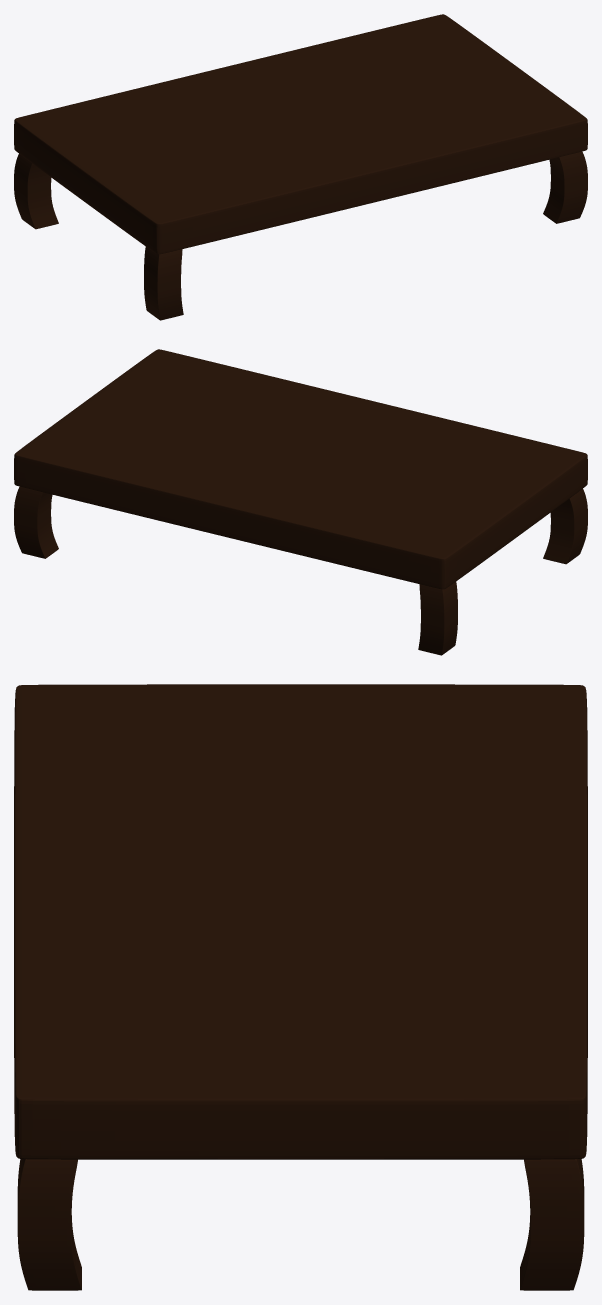
The model's file is rustic_coffee_table.glb.
The picture shows the model from 3 angles, top to bottom: view 1: azimuth 30°, elevation 25°; view 2: azimuth 150°, elevation 25°; view 3: azimuth 270°, elevation 25°; orthographic projection. The views are drawn at different scales.
Visible parts, largest first — view 1: Table, Pieds; view 2: Table, Pieds; view 3: Table, Pieds.
Boxes of the visible parts, box(x1,y1,x2,y2) form: Table: box(14, 14, 587, 254); Pieds: box(14, 151, 587, 320); Table: box(14, 349, 587, 589); Pieds: box(14, 486, 587, 655); Table: box(14, 684, 587, 1159); Pieds: box(17, 1159, 584, 1290).
Size of the model in its own units: 3.04 by 0.6721 by 1.77.
